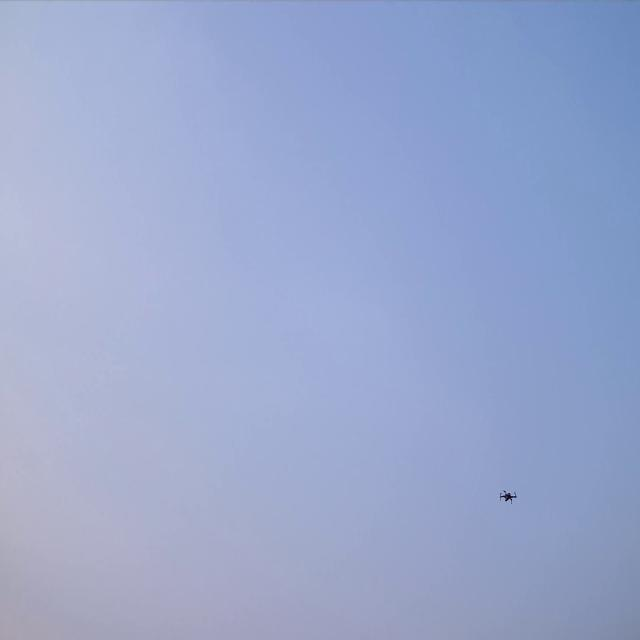UAV: (500, 491, 516, 502)
